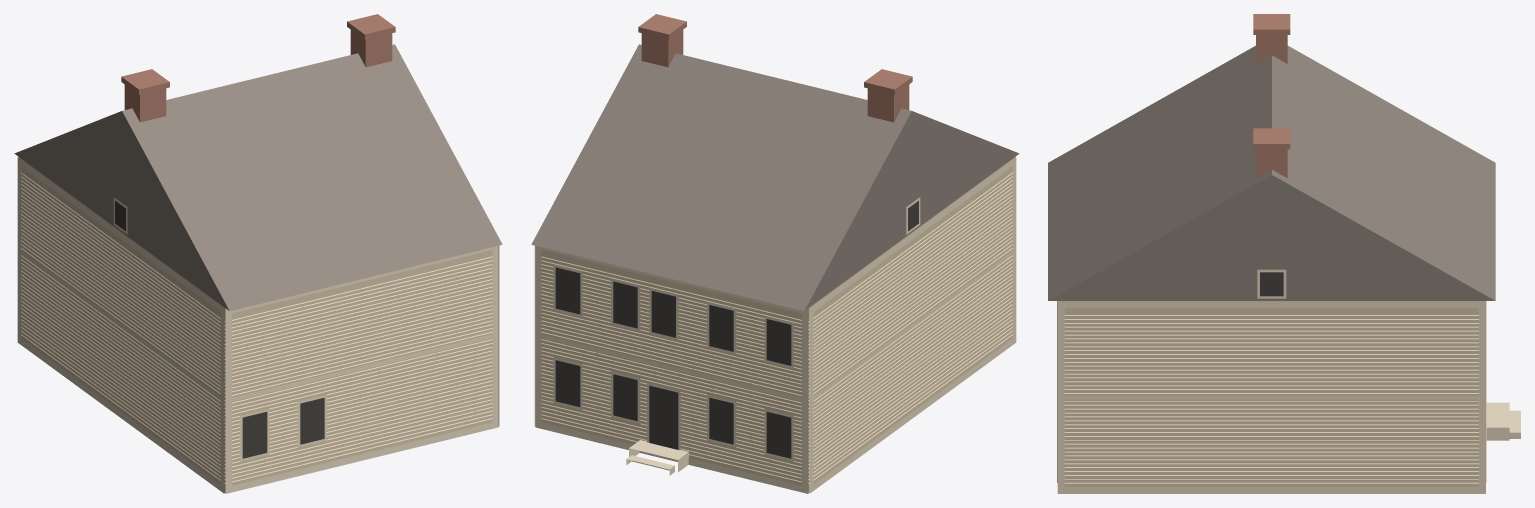
The model's file is recon_1835_blk_randolph_wells_h2_01__inferred_1835.glb.
3 renders of one model, left to right at view 1: azimuth 30°, elevation 25°; view 2: azimuth 150°, elevation 25°; view 3: azimuth 270°, elevation 25°, orthographic. The views are drawn at different scales.
Visible parts, largest first — view 1: recon_1835_blk_randolph_wells_h2_01__inferred_1835; view 2: recon_1835_blk_randolph_wells_h2_01__inferred_1835; view 3: recon_1835_blk_randolph_wells_h2_01__inferred_1835.
Part boxes in pixels (x1,y1,x2,y2): recon_1835_blk_randolph_wells_h2_01__inferred_1835: (14,14,502,493); recon_1835_blk_randolph_wells_h2_01__inferred_1835: (531,14,1019,493); recon_1835_blk_randolph_wells_h2_01__inferred_1835: (1048,14,1520,493).
Size of the model in its own units: 8.76 by 10.1 by 12.52.
